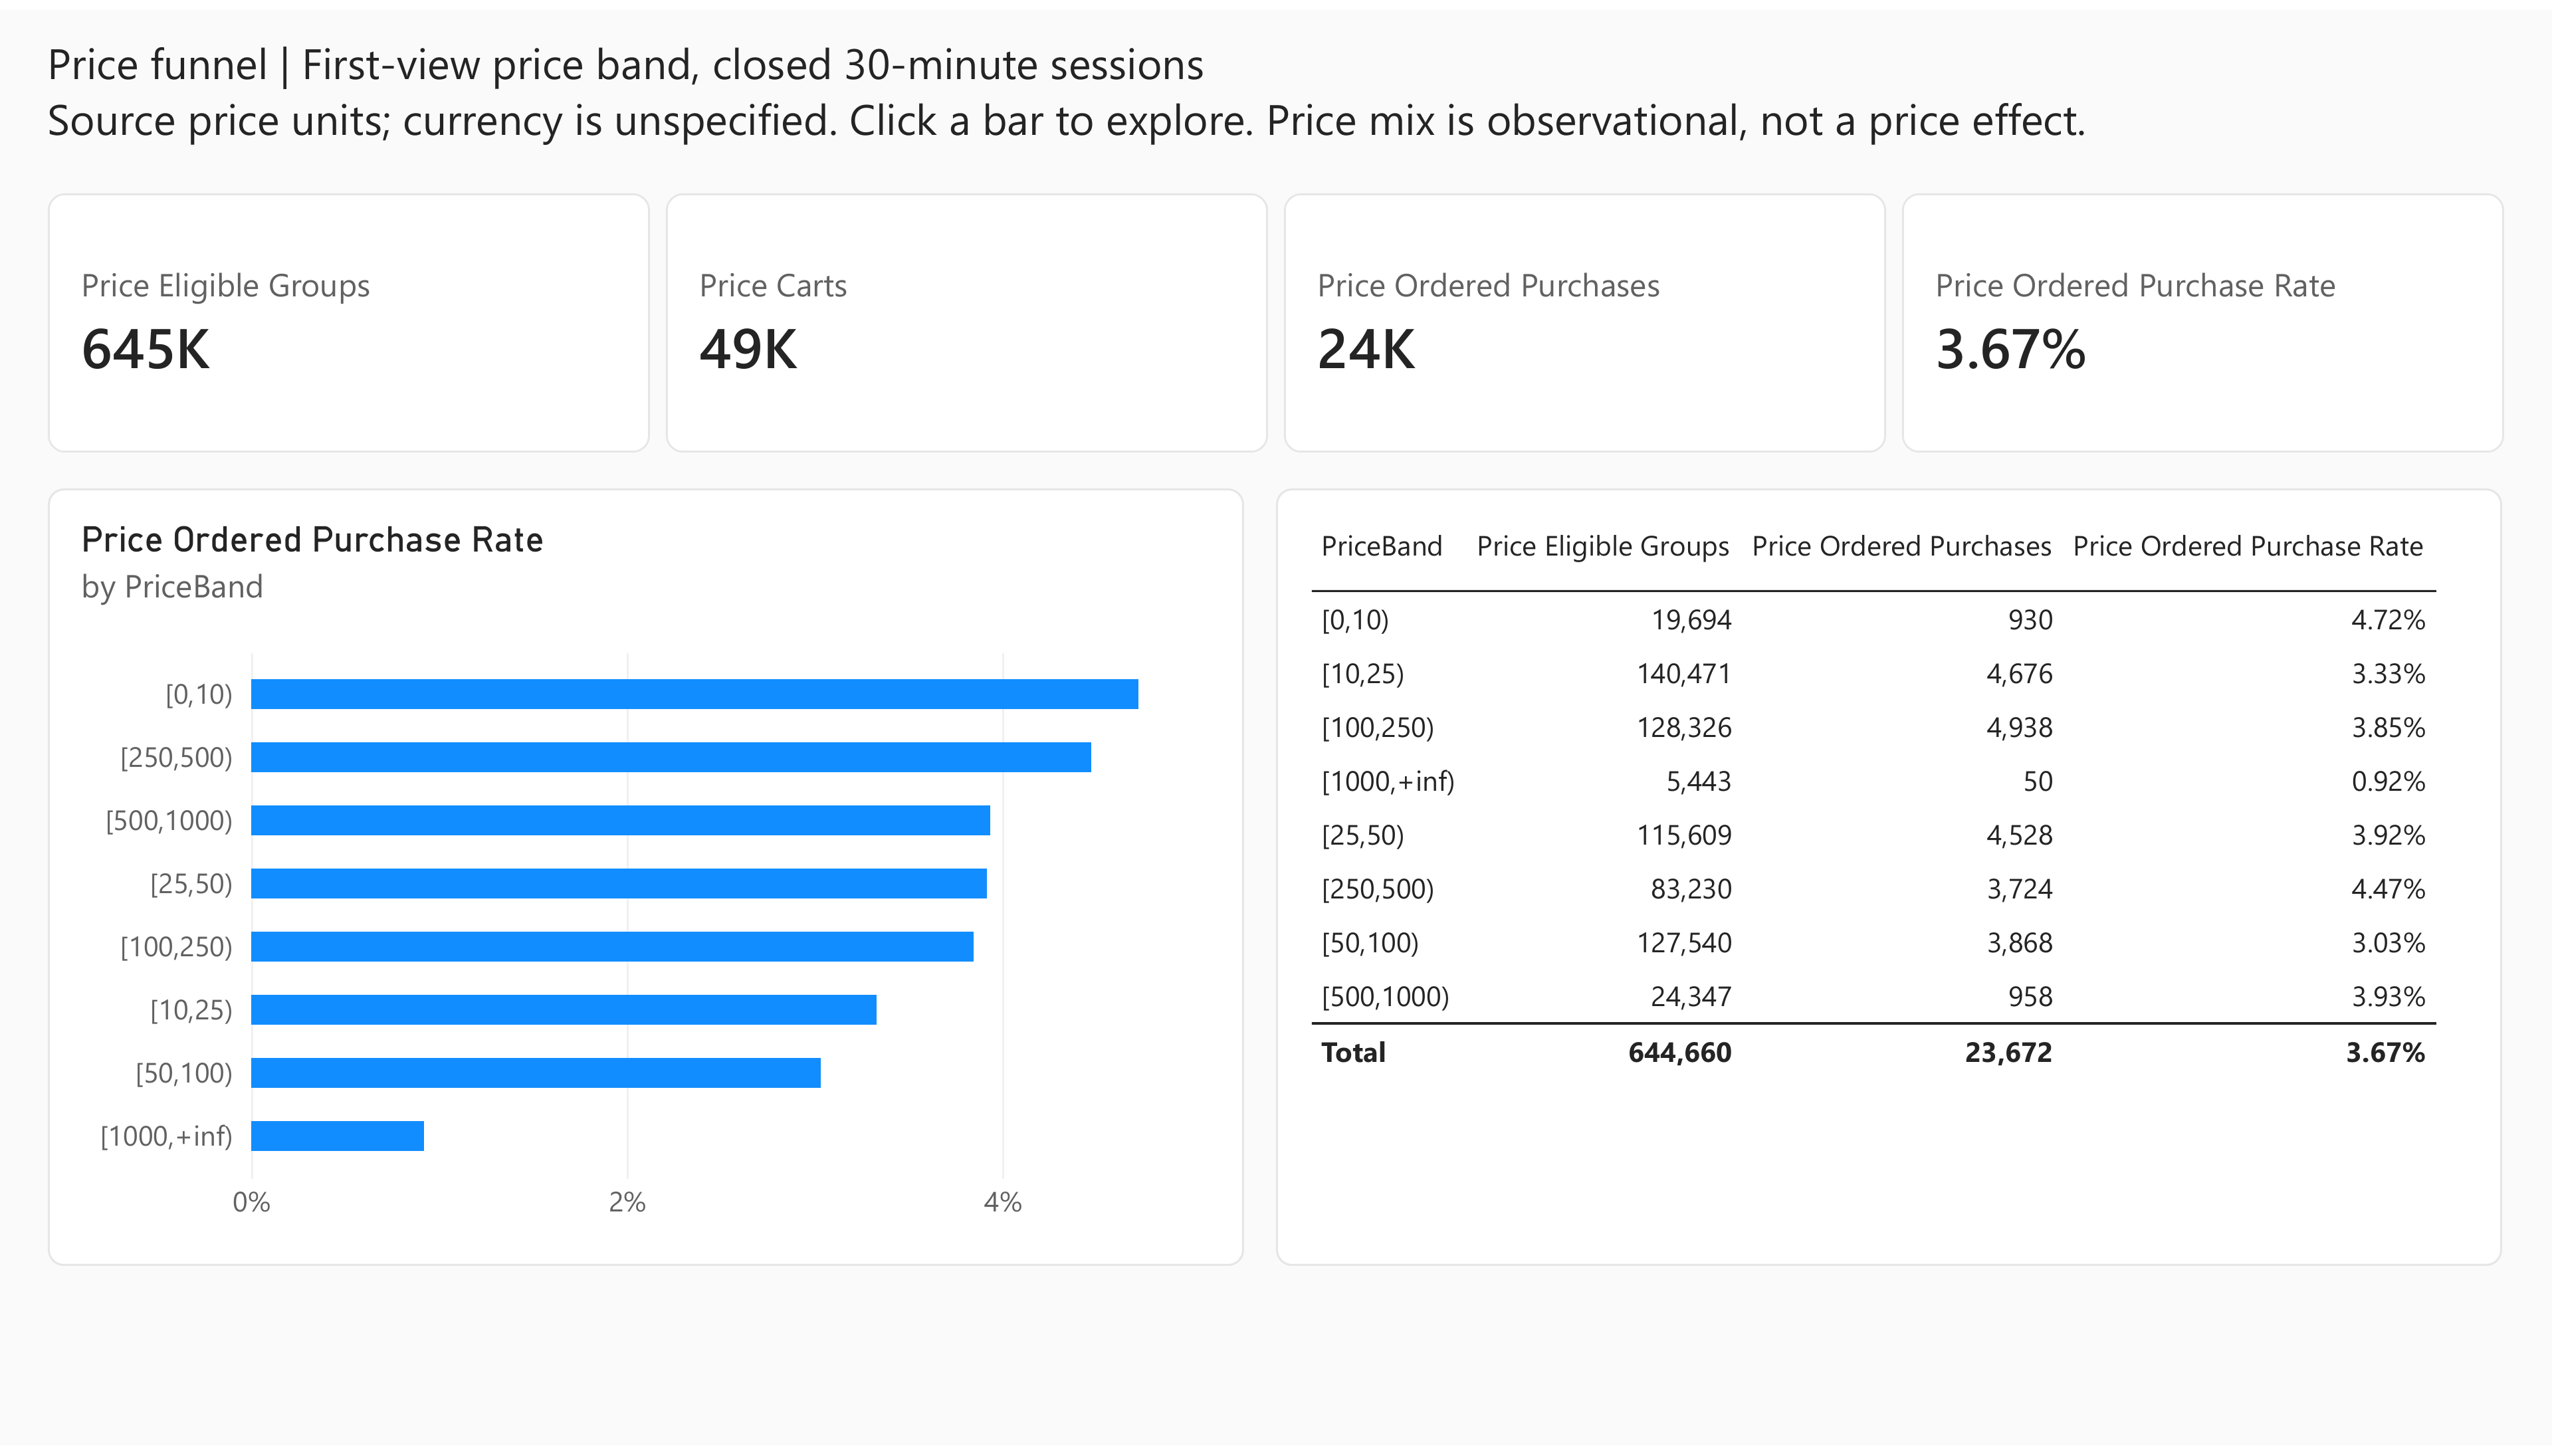

The dashboard page shown, as its layout file describes it:
{"tool":"powerbi","page":{"name":"04 Price Funnel","canvas":[1280,720],"ordinal":3},"visuals":[{"type":"cardVisual","fields":{"Data":["biFunnelPrice.Price Eligible Groups","biFunnelPrice.Price Carts","biFunnelPrice.Price Ordered Purchases","biFunnelPrice.Price Ordered Purchase Rate"]},"box":[24,92,1232,130],"z":0},{"type":"clusteredBarChart","fields":{"Category":["biFunnelPrice.PriceBand"],"Y":["biFunnelPrice.Price Ordered Purchase Rate"]},"box":[24,240,600,390],"z":1},{"type":"tableEx","fields":{"Values":["biFunnelPrice.PriceBand","biFunnelPrice.Price Eligible Groups","biFunnelPrice.Price Ordered Purchases","biFunnelPrice.Price Ordered Purchase Rate"]},"box":[640,240,615,390],"z":2},{"type":"textbox","box":[24,12,1232,70],"z":3}]}

Visuals, with their boxes in screenshot pixels (x1, y1, x2, y2), scaled from the page's 1280x720 canvas onto the 2552x1456 screenshot:
cardVisual - biFunnelPrice.Price Eligible Groups x biFunnelPrice.Price Carts: (48, 186, 2504, 449)
clusteredBarChart - biFunnelPrice.PriceBand x biFunnelPrice.Price Ordered Purchase Rate: (48, 485, 1244, 1274)
tableEx - biFunnelPrice.PriceBand x biFunnelPrice.Price Eligible Groups: (1276, 485, 2502, 1274)
textbox: (48, 25, 2504, 166)
